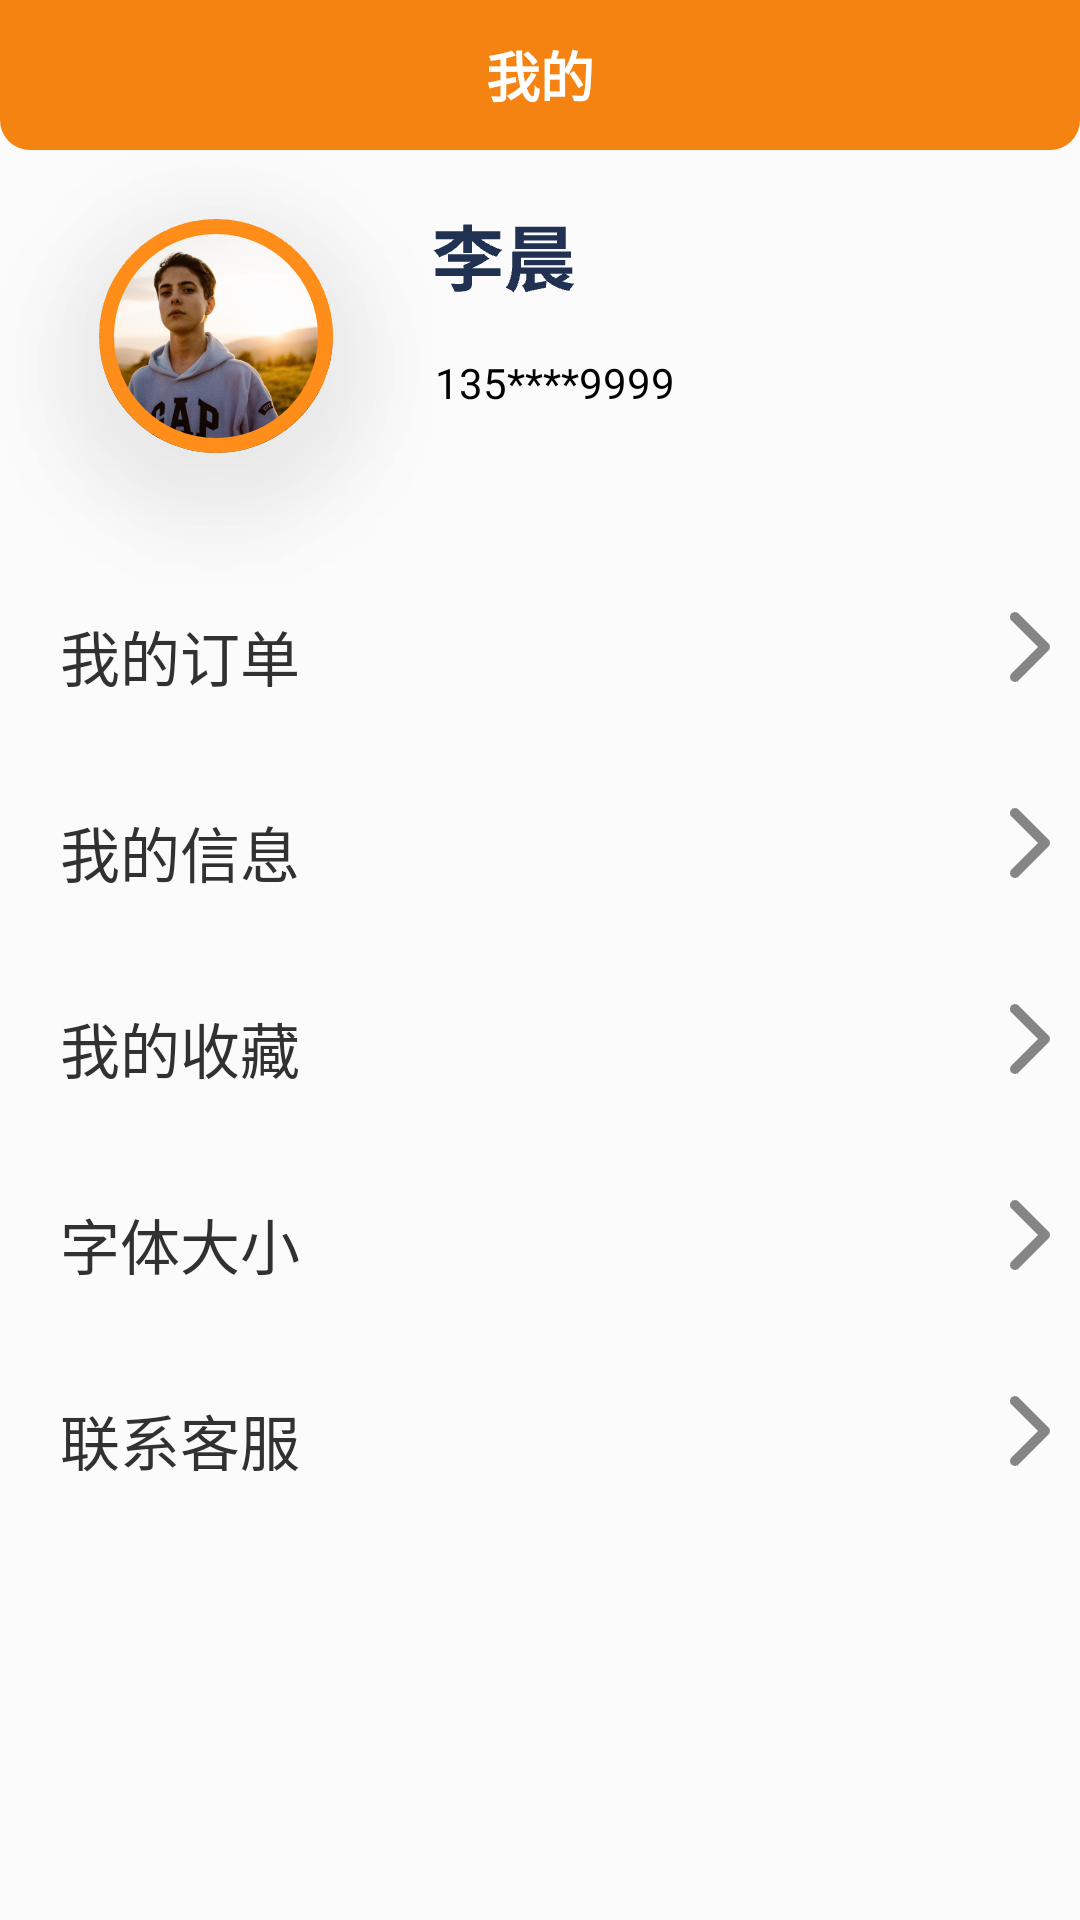

Screen size 1080px×1920px. Icon name, then its center in pixels as point (x, y):
next: point (1030, 647), point (1030, 843), point (1030, 1039), point (1030, 1235), point (1030, 1431)
user base: point (216, 336)
